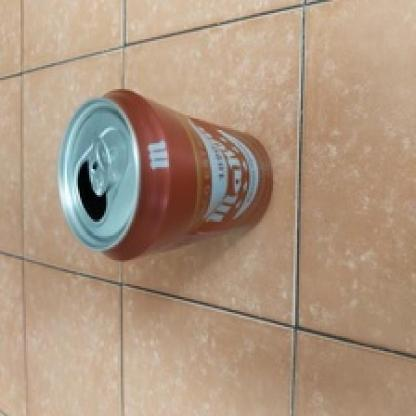Can: (32, 76, 289, 301)
